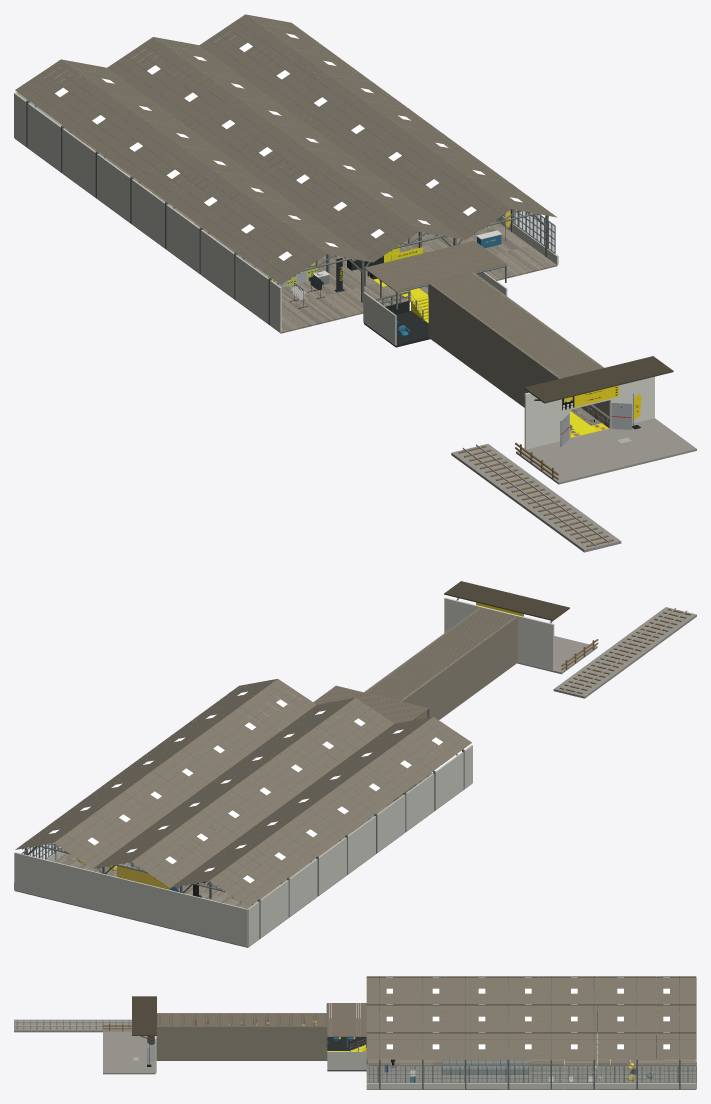
The model's file is one16.glb.
The picture shows the model from 3 angles, top to bottom: view 1: azimuth 30°, elevation 25°; view 2: azimuth 150°, elevation 25°; view 3: azimuth 270°, elevation 25°; orthographic projection. The views are drawn at different scales.
Parts seen in each view (by area): view 1: roof • removable pitched timber and skylights, Architecture • Y braced timber and river windows, Entrance • weathered loading corridor, umbrellas and yellow , Floor • timber planks and embedded rails, Exterior forecourt, Exterior railway gravel, roof_exterior_canopy, Exterior white doorway wing, Exterior white doorway wing.001; view 2: roof • removable pitched timber and skylights, Architecture • Y braced timber and river windows, Entrance • weathered loading corridor, umbrellas and yellow , Exterior railway gravel, roof_exterior_canopy, Floor • timber planks and embedded rails, Exterior white doorway wing, Exterior forecourt, Exterior white doorway wing.001; view 3: roof • removable pitched timber and skylights, Architecture • Y braced timber and river windows, Entrance • weathered loading corridor, umbrellas and yellow , Floor • timber planks and embedded rails, Exterior forecourt, Exterior railway gravel, roof_exterior_canopy, Furniture • observed event typologies, Exterior railway rail.
Boxes of the visible parts, x1,y1,x2,y2 form: roof • removable pitched timber and skylights: [15, 14, 603, 378]; Architecture • Y braced timber and river windows: [14, 16, 558, 332]; Entrance • weathered loading corridor, umbrellas and yellow : [254, 245, 609, 437]; Floor • timber planks and embedded rails: [15, 103, 557, 333]; Exterior forecourt: [516, 418, 696, 484]; Exterior railway gravel: [451, 444, 621, 552]; roof_exterior_canopy: [524, 356, 673, 403]; Exterior white doorway wing: [524, 392, 569, 449]; Exterior white doorway wing.001: [610, 376, 654, 428]; roof • removable pitched timber and skylights: [15, 607, 516, 906]; Architecture • Y braced timber and river windows: [14, 680, 472, 946]; Entrance • weathered loading corridor, umbrellas and yellow : [364, 607, 517, 801]; Exterior railway gravel: [553, 607, 696, 698]; roof_exterior_canopy: [444, 581, 569, 620]; Floor • timber planks and embedded rails: [14, 772, 472, 947]; Exterior white doorway wing: [516, 615, 554, 670]; Exterior forecourt: [517, 636, 597, 674]; Exterior white doorway wing.001: [444, 597, 482, 632]; roof • removable pitched timber and skylights: [157, 976, 696, 1059]; Architecture • Y braced timber and river windows: [366, 976, 696, 1089]; Entrance • weathered loading corridor, umbrellas and yellow : [156, 1003, 367, 1071]; Floor • timber planks and embedded rails: [366, 1006, 696, 1089]; Exterior forecourt: [103, 1031, 155, 1074]; Exterior railway gravel: [14, 1019, 131, 1032]; roof_exterior_canopy: [132, 996, 156, 1035]; Furniture • observed event typologies: [410, 1006, 653, 1082]; Exterior railway rail: [14, 1021, 131, 1022].
Bounding box in the file's own units: 30.22 × 8.62 × 104.
